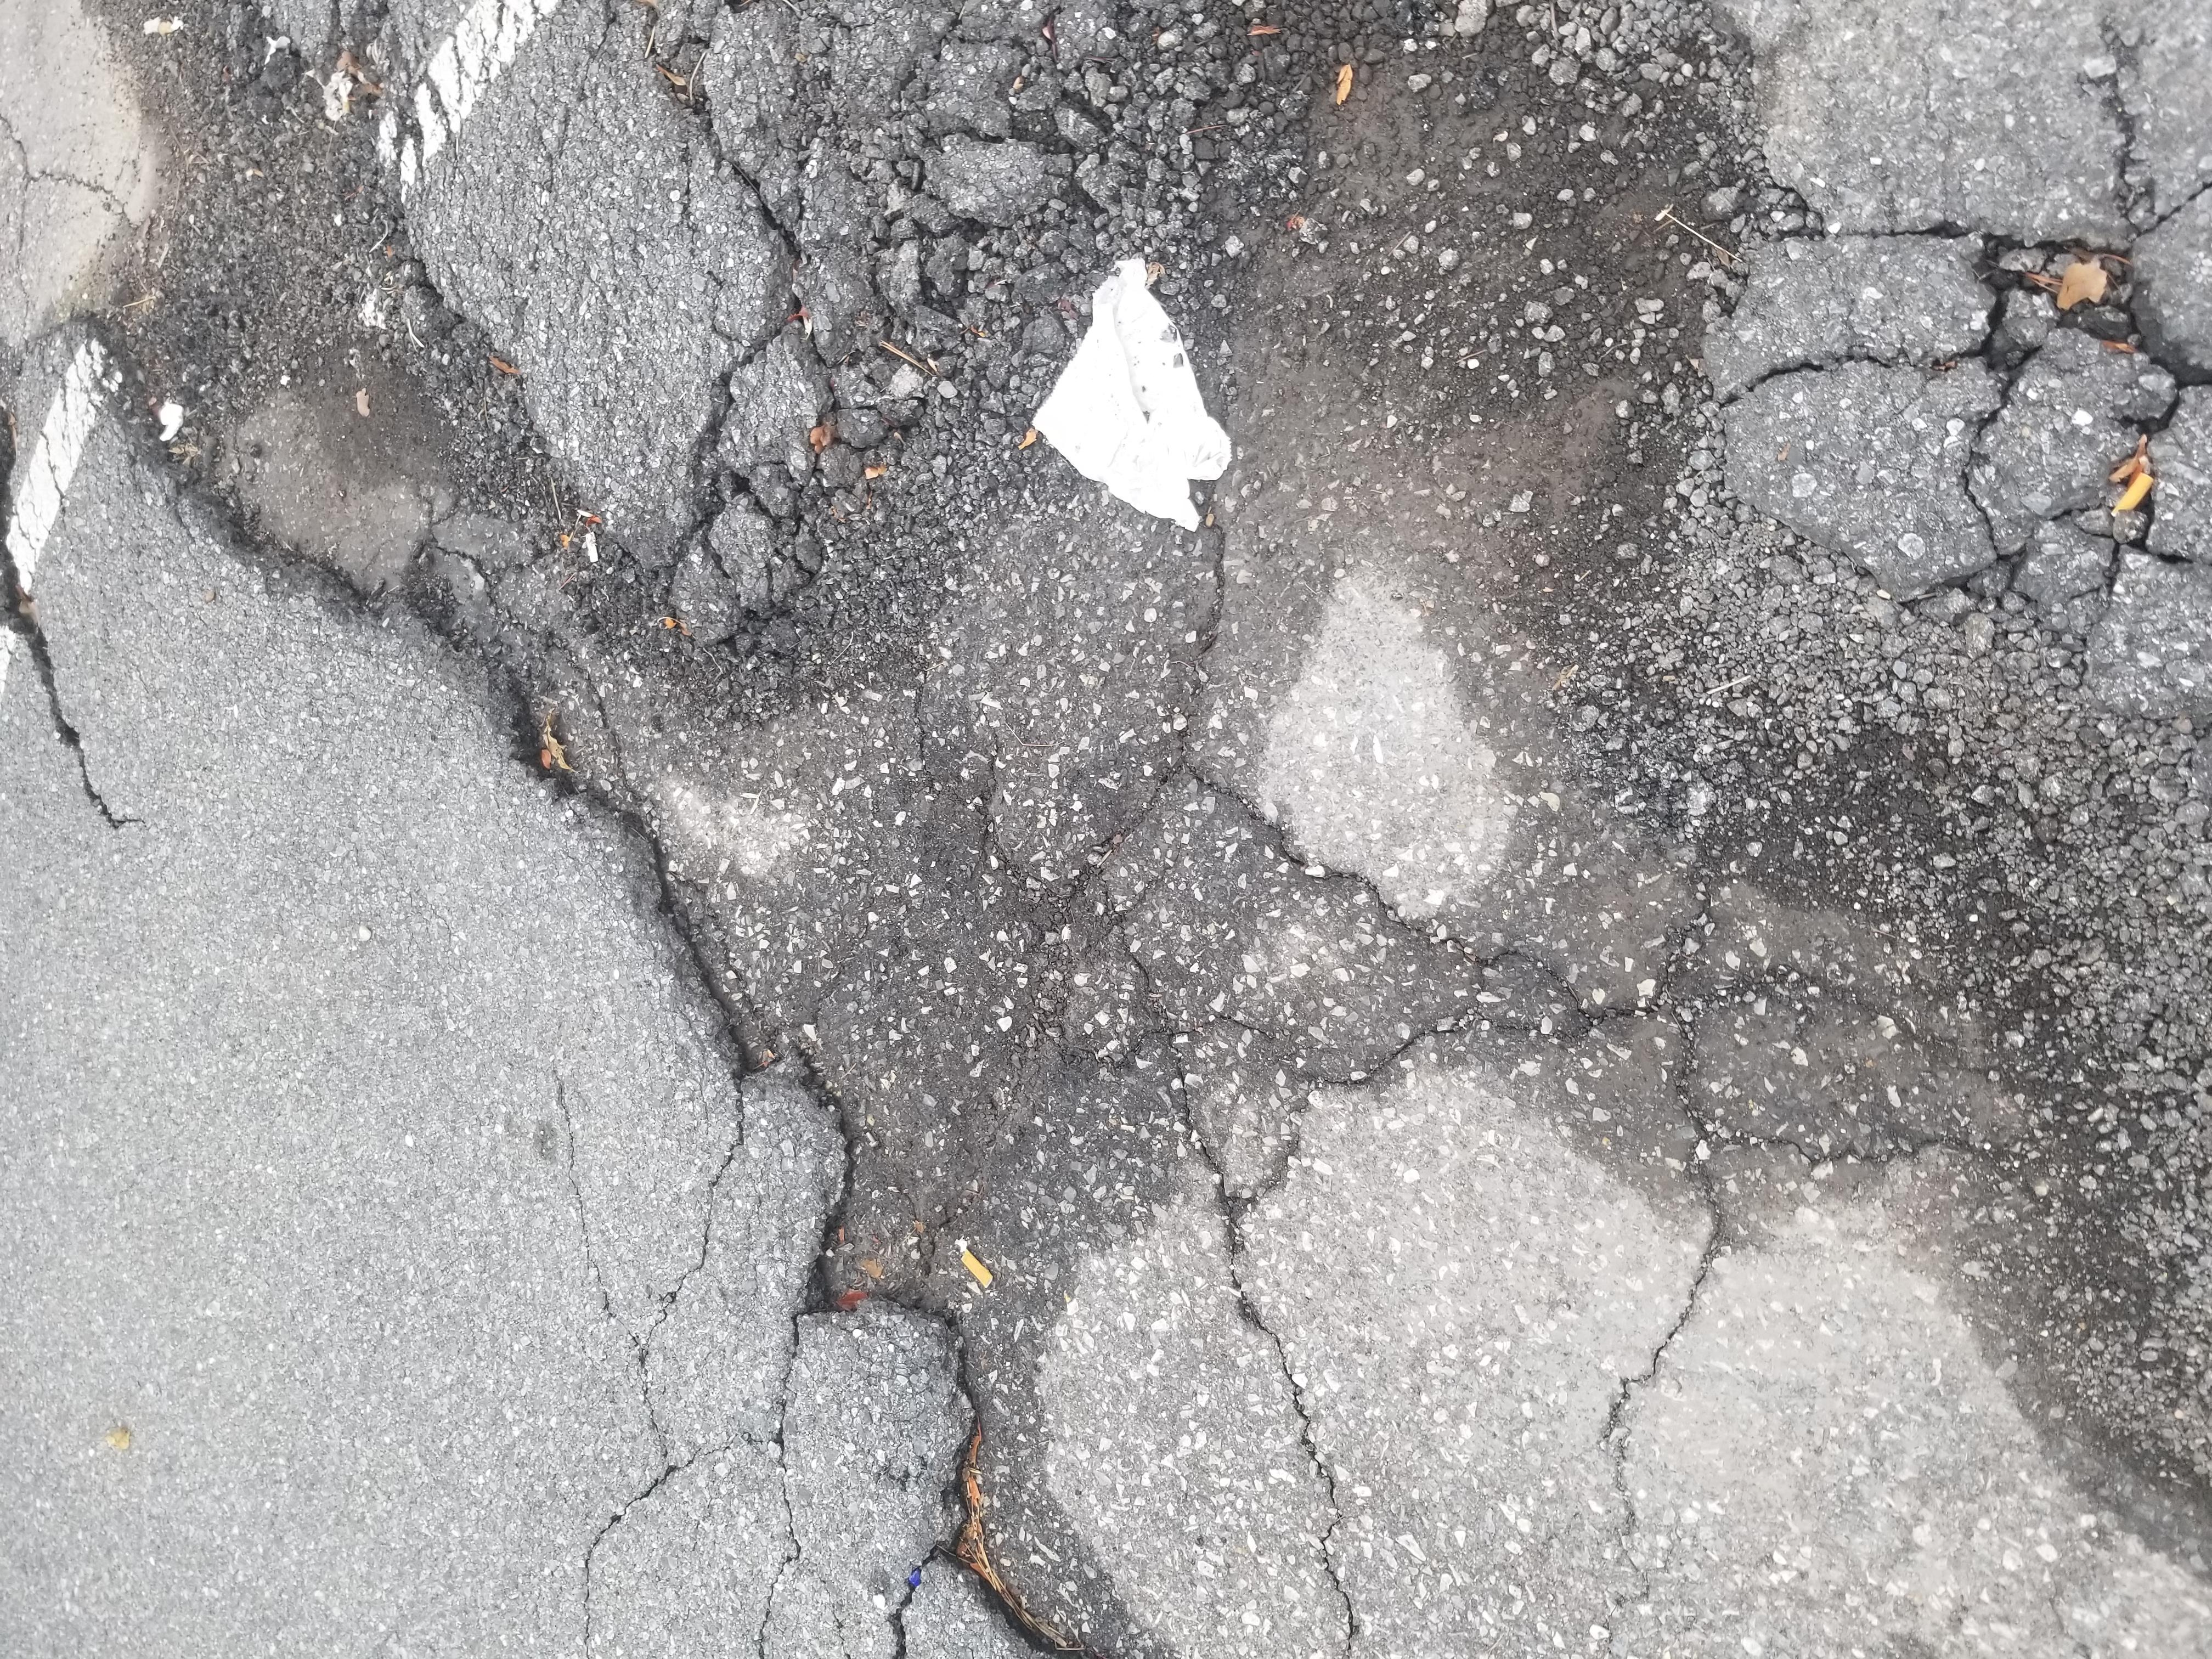pothole: (68, 112, 2212, 1654)
